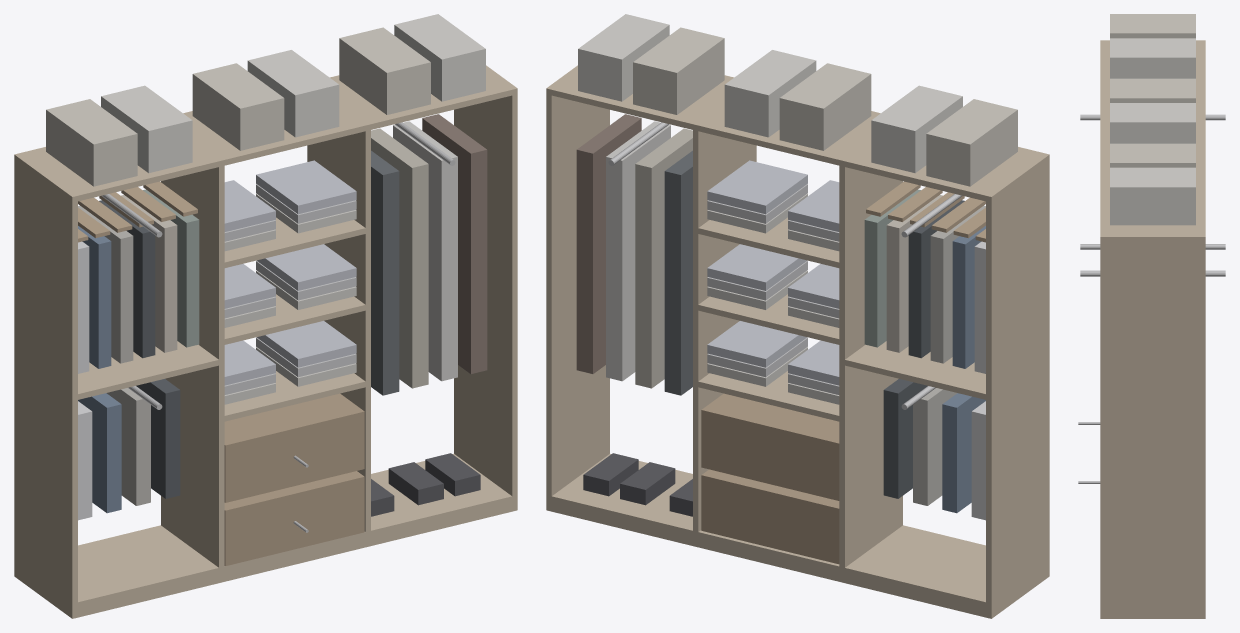
Rendered from walkin_closet_system.glb.
3 views of the same model, side by side, from view 1: azimuth 30°, elevation 25°; view 2: azimuth 150°, elevation 25°; view 3: azimuth 270°, elevation 25° (orthographic). The views are drawn at different scales.
Parts seen in each view (by area): view 1: geometry_0, geometry_5, geometry_3, geometry_1, geometry_54, geometry_4, geometry_52, geometry_60, geometry_2, geometry_58, geometry_59, geometry_57 (+37 smaller); view 2: geometry_0, geometry_5, geometry_3, geometry_1, geometry_54, geometry_4, geometry_52, geometry_2, geometry_60, geometry_58, geometry_59, geometry_57 (+37 smaller); view 3: geometry_3, geometry_11, geometry_4, geometry_7, geometry_9, geometry_6, geometry_8, geometry_10, geometry_5, geometry_26, geometry_12, geometry_56.
Boxes of the visible parts, x1,y1,x2,y2 form: geometry_0: (14,153,77,618); geometry_5: (14,454,517,618); geometry_3: (454,65,517,510); geometry_1: (161,137,224,582); geometry_54: (224,393,364,502); geometry_4: (14,66,517,202); geometry_52: (224,471,364,566); geometry_60: (422,114,487,373); geometry_2: (307,104,370,546); geometry_58: (371,128,428,388); geometry_59: (393,121,457,381); geometry_57: (371,150,399,395); geometry_0: (986,154,1049,618); geometry_5: (546,454,1049,618); geometry_3: (546,65,609,511); geometry_1: (839,137,902,582); geometry_54: (701,393,839,500); geometry_4: (546,66,1049,201); geometry_52: (701,469,839,564); geometry_2: (693,101,756,546); geometry_60: (576,114,641,373); geometry_58: (635,128,692,388); geometry_59: (606,121,670,381); geometry_57: (664,150,692,395); geometry_3: (1100,234,1205,618); geometry_11: (1110,167,1195,225); geometry_4: (1100,40,1205,241); geometry_7: (1110,38,1195,78); geometry_9: (1110,103,1195,143); geometry_6: (1110,14,1195,38); geometry_8: (1110,78,1195,102); geometry_10: (1110,143,1195,167); geometry_5: (1100,605,1205,618); geometry_26: (1080,270,1225,276); geometry_12: (1080,114,1225,120); geometry_56: (1080,244,1225,249).
Bounding box in the file's own units: 2.43 × 2.42 × 0.77.
